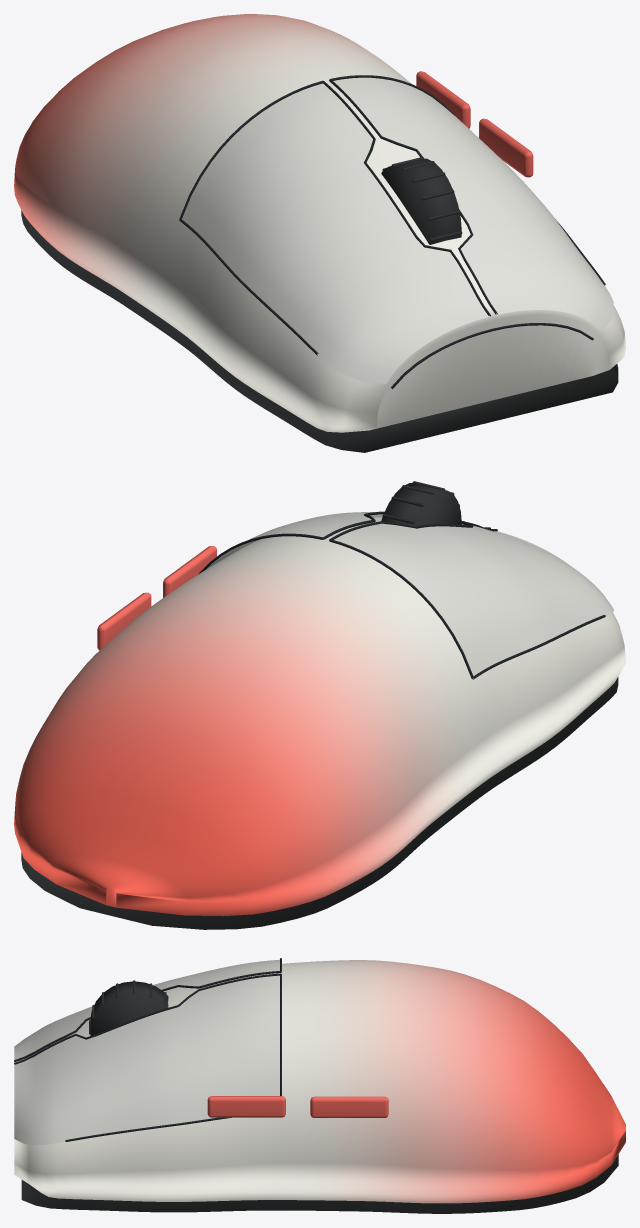
3 renders of one model, top to bottom at view 1: azimuth 30°, elevation 25°; view 2: azimuth 150°, elevation 25°; view 3: azimuth 270°, elevation 25°, orthographic. The views are drawn at different scales.
Parts seen in each view (by area): view 1: Mouse body GPX continuous rounded back, Left click panel, Scroll wheel, Left click outer seam, Side button left only; view 2: Mouse body GPX continuous rounded back, Left click panel, Scroll wheel, Left click outer seam, Side button left only; view 3: Mouse body GPX continuous rounded back, Left click panel, Scroll wheel, Side button left only, Left click outer seam.
Boxes of the visible parts, x1,y1,x2,y2 form: Mouse body GPX continuous rounded back: [14, 14, 625, 432]; Left click panel: [182, 77, 613, 383]; Scroll wheel: [21, 157, 618, 452]; Left click outer seam: [179, 75, 605, 388]; Side button left only: [416, 71, 533, 177]; Mouse body GPX continuous rounded back: [14, 517, 625, 916]; Left click panel: [206, 512, 613, 678]; Scroll wheel: [21, 481, 618, 929]; Left click outer seam: [199, 511, 605, 679]; Side button left only: [97, 546, 216, 650]; Mouse body GPX continuous rounded back: [14, 960, 625, 1203]; Left click panel: [14, 959, 279, 1145]; Scroll wheel: [21, 980, 618, 1213]; Side button left only: [207, 1096, 388, 1117]; Left click outer seam: [14, 958, 281, 1141].
Bounding box in the file's own units: 0.0635 × 0.0404 × 0.1251.
